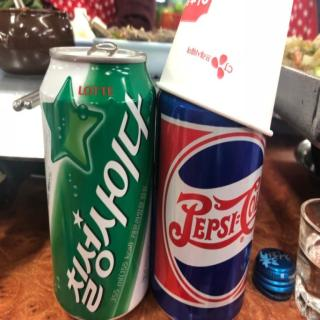chilsung: (38, 37, 156, 320)
